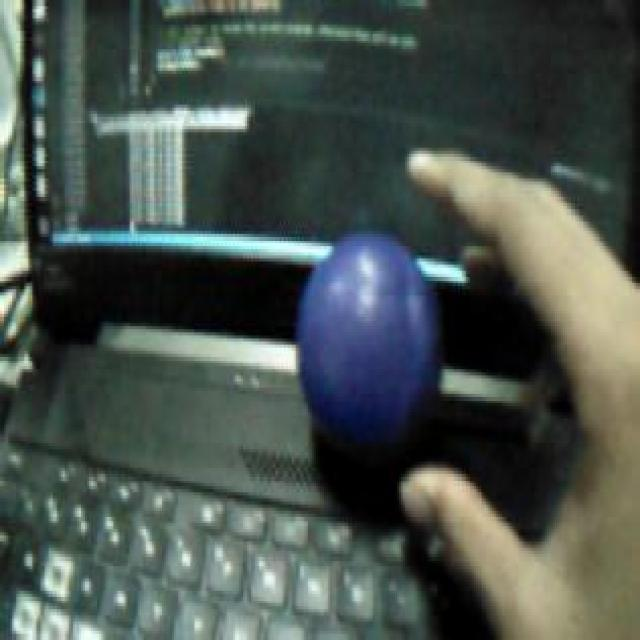BallPurple: (298, 231, 441, 452)
